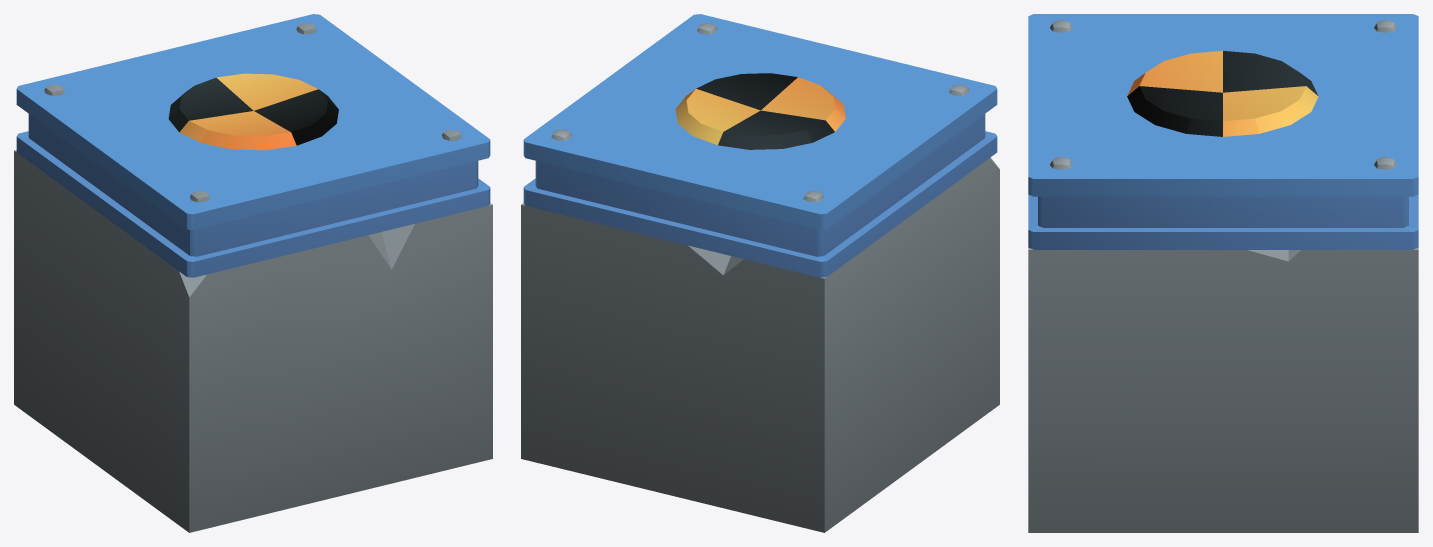
File: block_E.gltf.glb
3 renders of one model, left to right at view 1: azimuth 30°, elevation 25°; view 2: azimuth 150°, elevation 25°; view 3: azimuth 270°, elevation 25°, orthographic. The views are drawn at different scales.
Parts seen in each view (by area): view 1: block_E; view 2: block_E; view 3: block_E.
Part boxes in pixels (<box>): block_E: <box>14,14,492,532</box>; block_E: <box>521,14,999,532</box>; block_E: <box>1028,14,1418,532</box>.
Bounding box in the file's own units: 2 × 2.06 × 2.
Materials: 1 (1 with a texture image).
